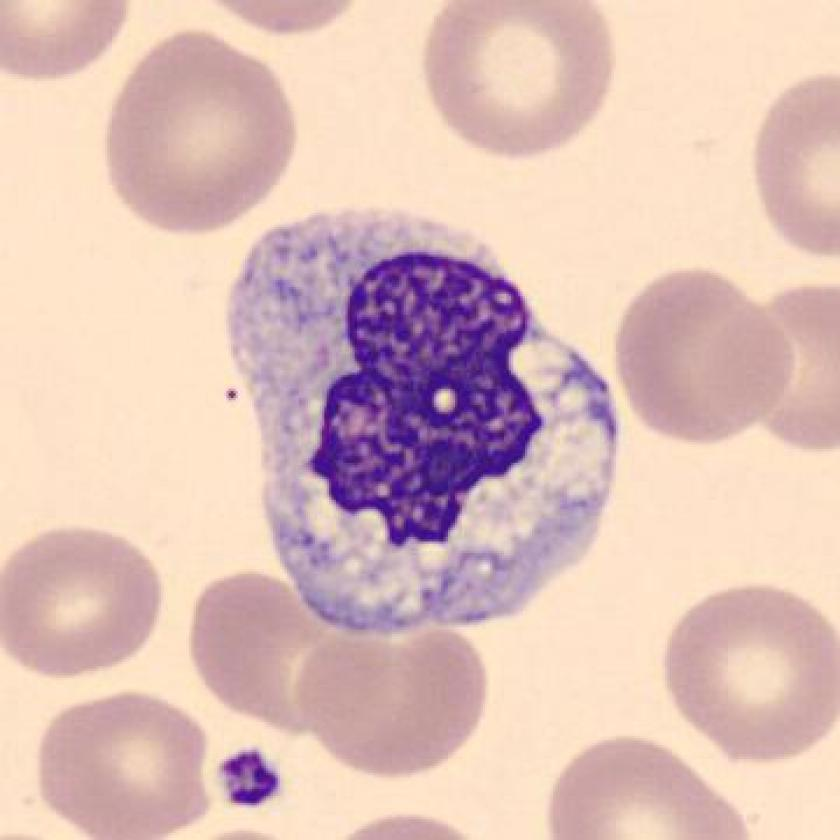monocyte: (209, 184, 640, 660)
